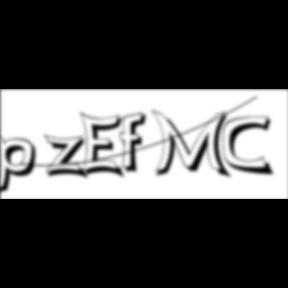C: (222, 115, 278, 178)
E: (80, 110, 130, 182)
M: (151, 108, 235, 181)
f: (119, 111, 152, 175)
p: (1, 132, 44, 198)
z: (44, 134, 92, 182)
